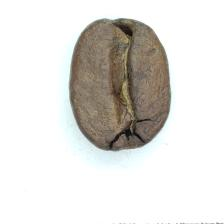NG: (97, 21, 155, 134)
